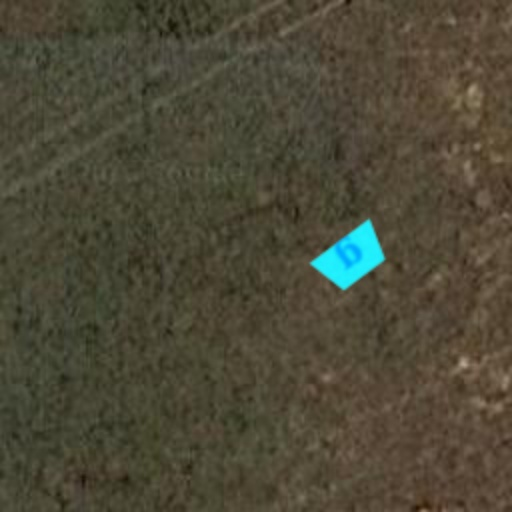trapezoid: (298, 204, 406, 312)
